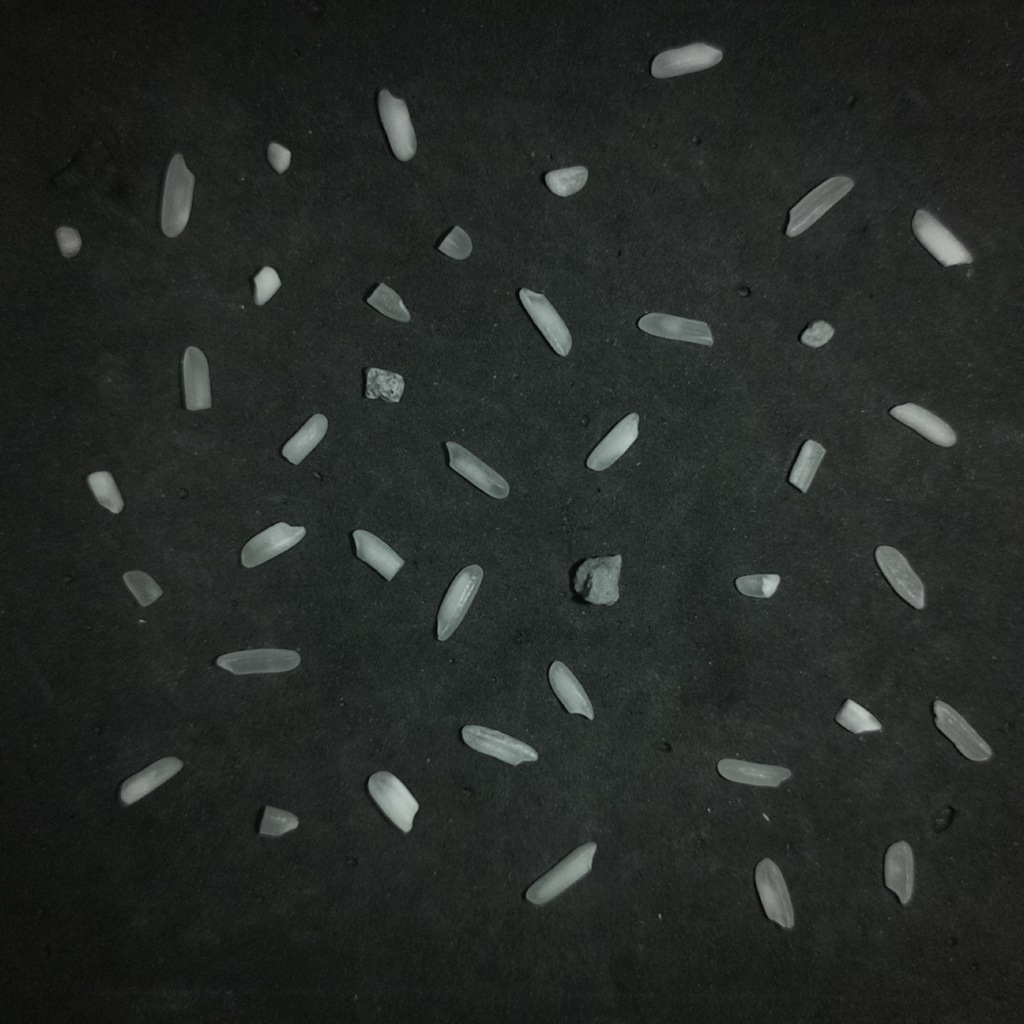broken: (788, 439, 825, 492), (884, 840, 914, 905), (365, 283, 410, 322), (122, 570, 162, 606), (544, 165, 588, 196), (258, 805, 298, 837), (437, 225, 472, 260), (734, 574, 779, 598), (800, 319, 833, 348), (55, 225, 81, 258)
chalky: (525, 843, 595, 905), (436, 564, 483, 640), (518, 288, 571, 355), (912, 209, 972, 266), (367, 771, 418, 832), (461, 725, 537, 765), (119, 757, 182, 805), (586, 412, 638, 470), (889, 403, 956, 446), (241, 522, 305, 567), (378, 89, 416, 161), (548, 660, 593, 719), (650, 42, 722, 78), (281, 413, 327, 464), (835, 699, 881, 733), (87, 471, 123, 513), (253, 266, 280, 305), (267, 141, 290, 173)
foreign: (574, 555, 621, 605), (365, 367, 403, 403)
whole: (785, 176, 853, 236), (933, 700, 991, 761), (446, 442, 508, 498), (875, 545, 924, 609), (160, 153, 194, 237), (755, 859, 794, 928), (352, 529, 403, 580), (638, 313, 712, 346), (216, 648, 300, 674), (716, 758, 791, 786), (182, 346, 211, 410)
